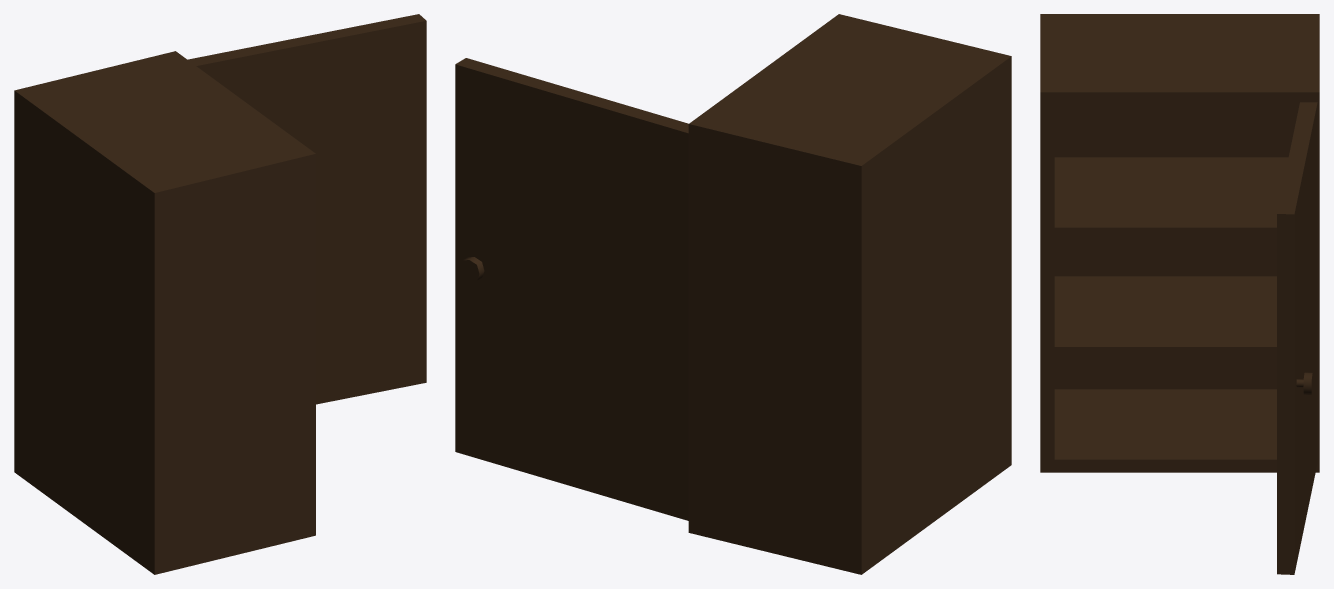
The model's file is KitchenCabinet_Top_Open.FBX.
The picture shows the model from 3 angles, left to right: view 1: azimuth 30°, elevation 25°; view 2: azimuth 150°, elevation 25°; view 3: azimuth 270°, elevation 25°; orthographic projection. The views are drawn at different scales.
Parts seen in each view (by area): view 1: Box016; view 2: Box016; view 3: Box016.
Part boxes in pixels (x1=…): Box016: x1=14, y1=14, x2=426, y2=574; Box016: x1=455, y1=14, x2=1011, y2=574; Box016: x1=1040, y1=14, x2=1319, y2=574.
Bounding box in the file's own units: 35.72 × 33.24 × 22.13.
